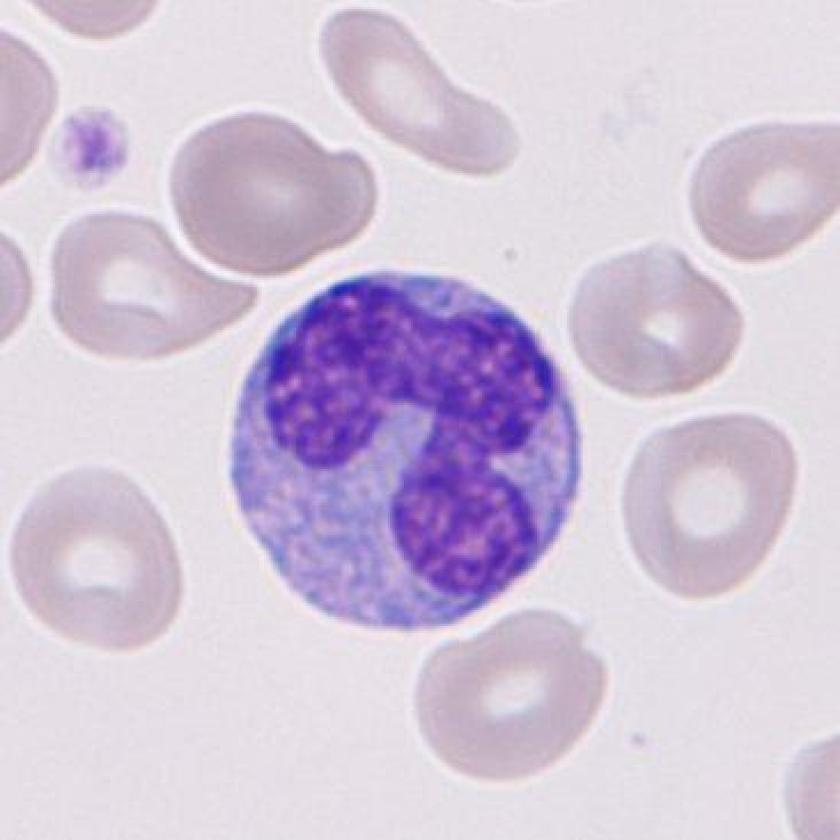monocyte: (212, 245, 607, 657)
